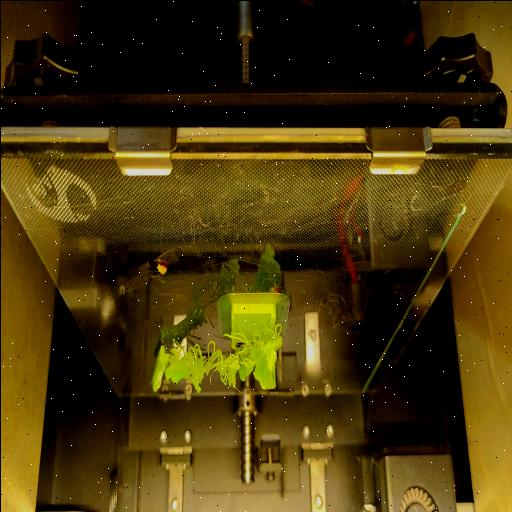spaghetti: (167, 323, 282, 393)
